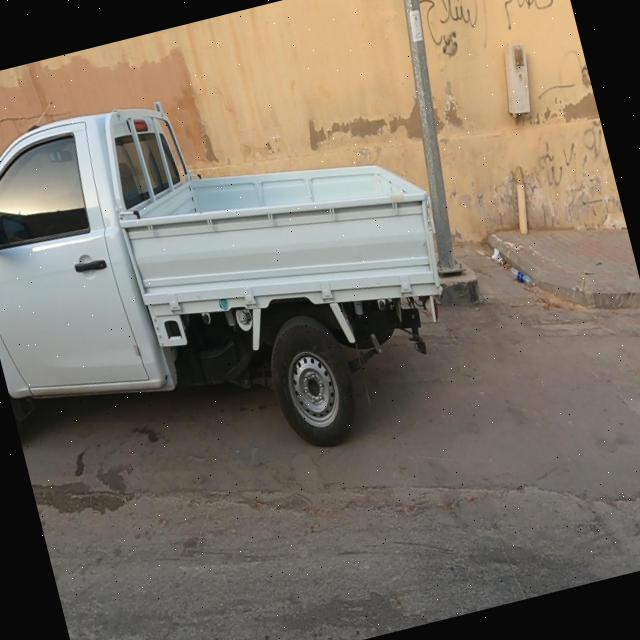Graffiti: (412, 1, 577, 62), (533, 117, 615, 193)
